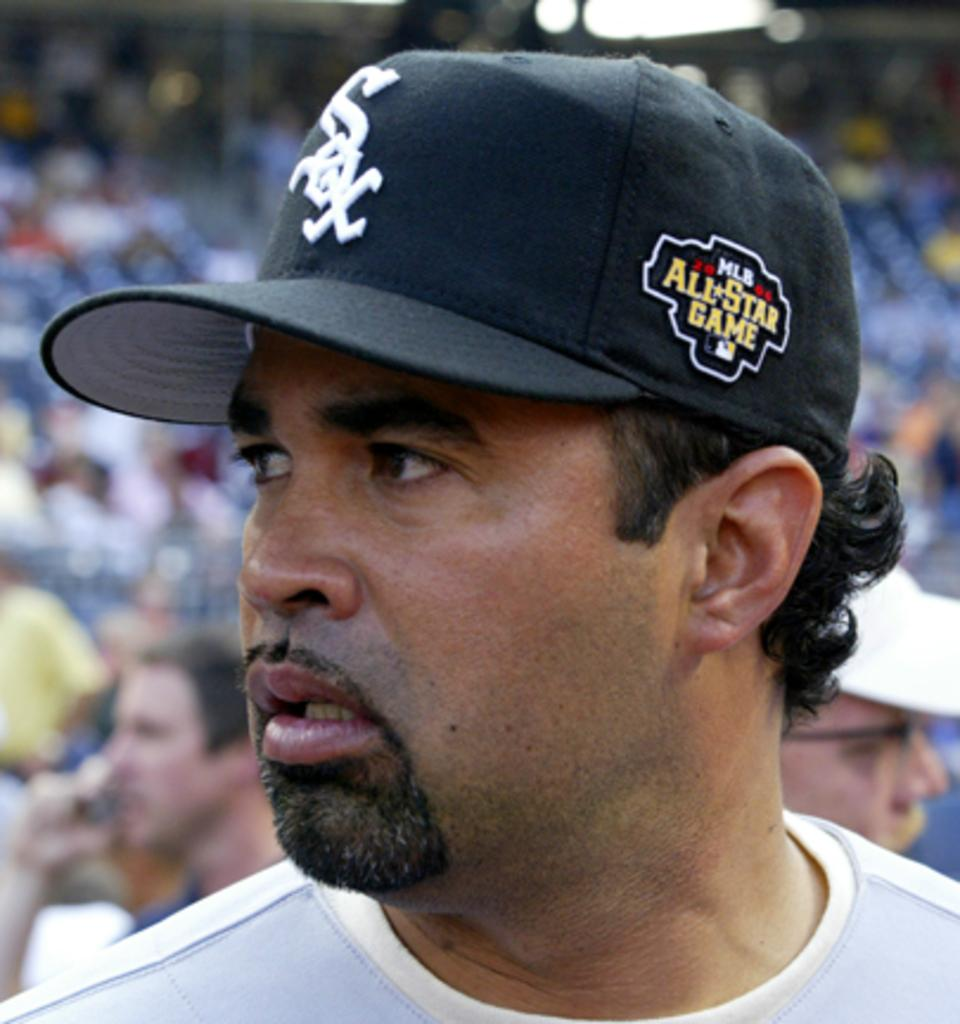Hat: (42, 52, 865, 454)
